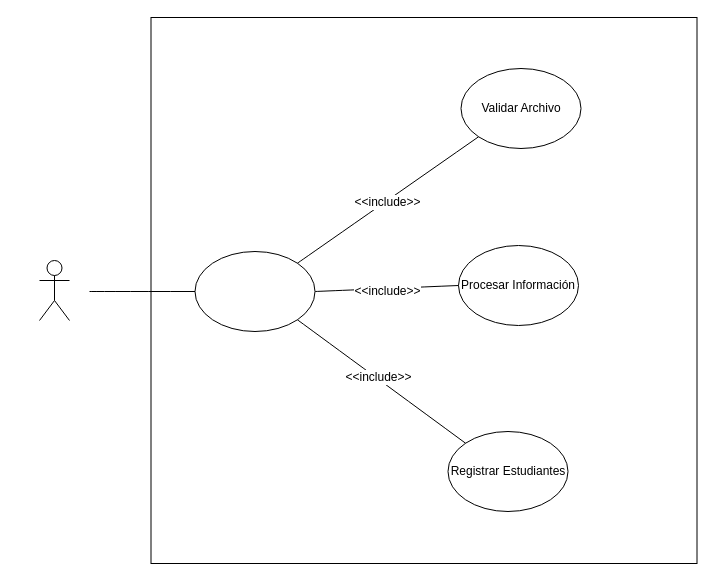
Image size: 715x581. Some labels were removed from this diagram. Here are the shapes that lost their labels. From the top down, the centre of each, then its label:
At point 54,290: "Administrador".
At point 254,291: "Cargar Estudiante".
